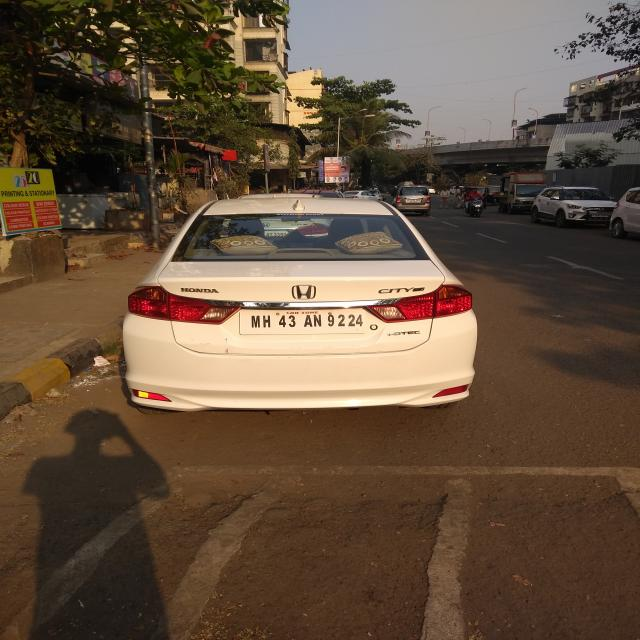Number-Plate: (240, 306, 376, 335)
